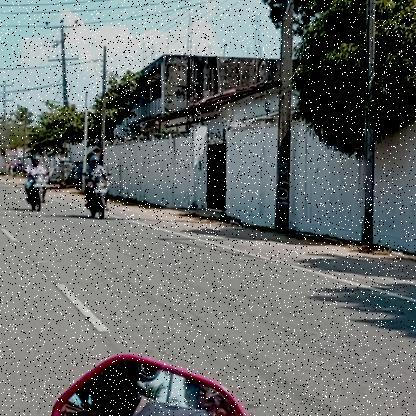motorcycle: (81, 175, 116, 222), (20, 172, 54, 216)
